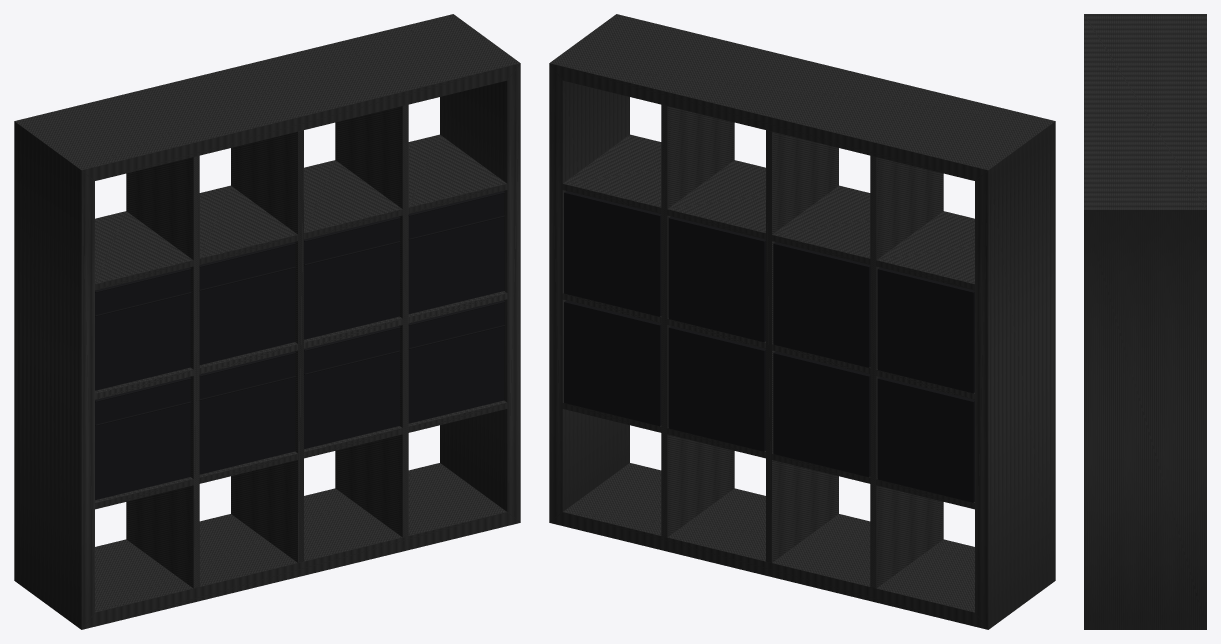
Rendered from IKE170020.obj.
The picture shows the model from 3 angles, left to right: view 1: azimuth 30°, elevation 25°; view 2: azimuth 150°, elevation 25°; view 3: azimuth 270°, elevation 25°; orthographic projection. The views are drawn at different scales.
Visible parts, largest first — view 1: Rectangle001, Rectangle004, Rectangle005, Line004, Line002, Line006, Line008, Line001, Line005, Line003, Line007; view 2: Rectangle001, Rectangle004, Rectangle005, Line001, Line003, Line004, Line006, Line002, Line005, Line007, Line008; view 3: Rectangle001.
Boxes of the visible parts, x1,y1,x2,y2 form: Rectangle001: (14, 14, 520, 629); Rectangle004: (126, 104, 408, 588); Rectangle005: (95, 134, 507, 509); Line004: (408, 191, 504, 313); Line002: (199, 242, 295, 364); Line006: (199, 351, 295, 474); Line008: (408, 300, 504, 423); Line001: (95, 267, 191, 390); Line005: (304, 326, 400, 449); Line003: (304, 216, 400, 339); Line007: (95, 377, 191, 500); Rectangle001: (549, 14, 1055, 629); Rectangle004: (661, 104, 943, 588); Rectangle005: (562, 134, 974, 509); Line001: (877, 267, 974, 393); Line003: (668, 216, 765, 342); Line004: (564, 191, 661, 316); Line006: (773, 351, 870, 477); Line002: (773, 242, 870, 367); Line005: (668, 326, 765, 451); Line007: (877, 377, 974, 502); Line008: (564, 300, 661, 426); Rectangle001: (1084, 14, 1206, 629).
Bounding box in the file's own units: 1470 × 1470 × 390.
2 materials, 1 textured.
